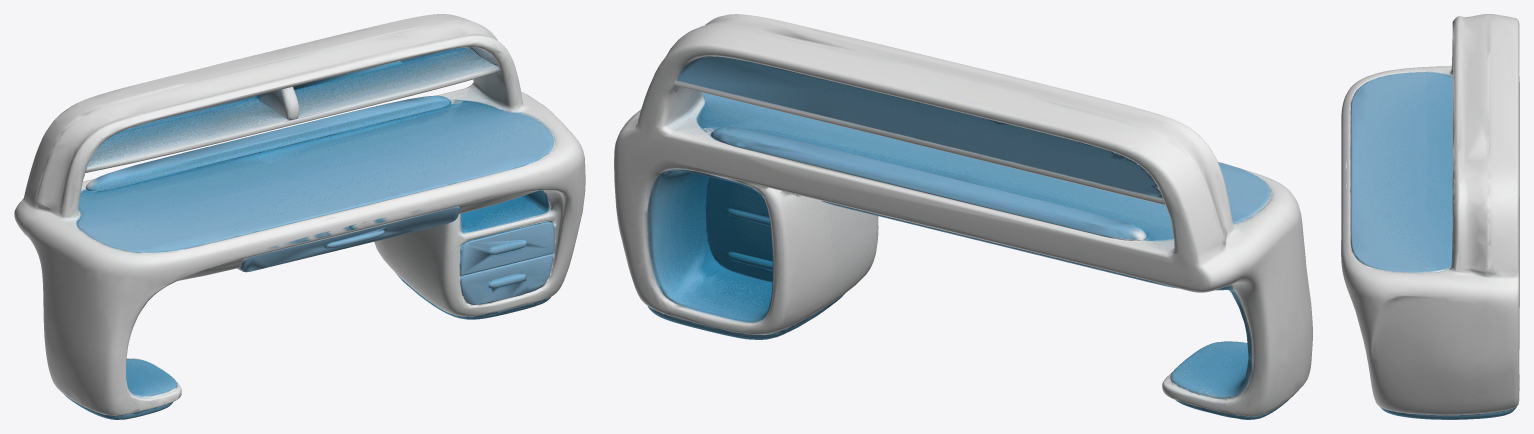
File: frutiger-desk.glb
3 renders of one model, left to right at view 1: azimuth 30°, elevation 25°; view 2: azimuth 150°, elevation 25°; view 3: azimuth 270°, elevation 25°, orthographic. The views are drawn at different scales.
Parts seen in each view (by area): view 1: material; view 2: material; view 3: material.
Part boxes in pixels (left/top/right/bottom): material: left=14, top=14, right=585, bottom=419; material: left=614, top=14, right=1312, bottom=419; material: left=1341, top=14, right=1519, bottom=419.
Bounding box in the file's own units: 1.57 × 0.7281 × 0.5244.
Materials: 1 (1 with a texture image).
